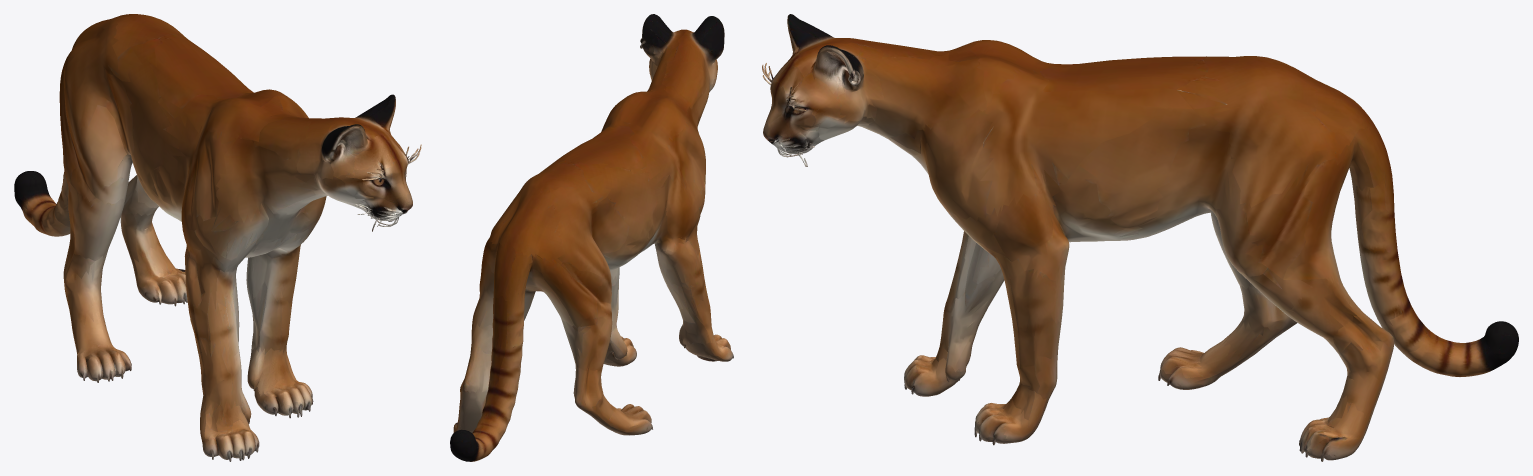
The model's file is cougar.glb.
The picture shows the model from 3 angles, left to right: view 1: azimuth 30°, elevation 25°; view 2: azimuth 150°, elevation 25°; view 3: azimuth 270°, elevation 25°; orthographic projection. The views are drawn at different scales.
Size of the model in its own units: 0.5806 by 1.13 by 1.9.
1 material, 1 textured.
